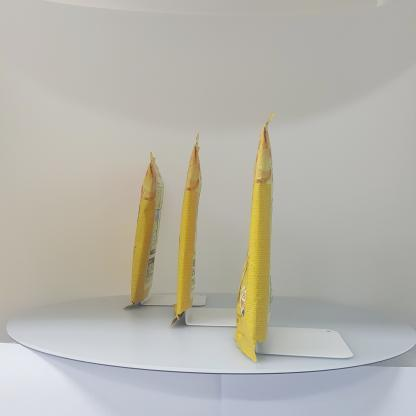Others: (119, 106, 309, 374)
